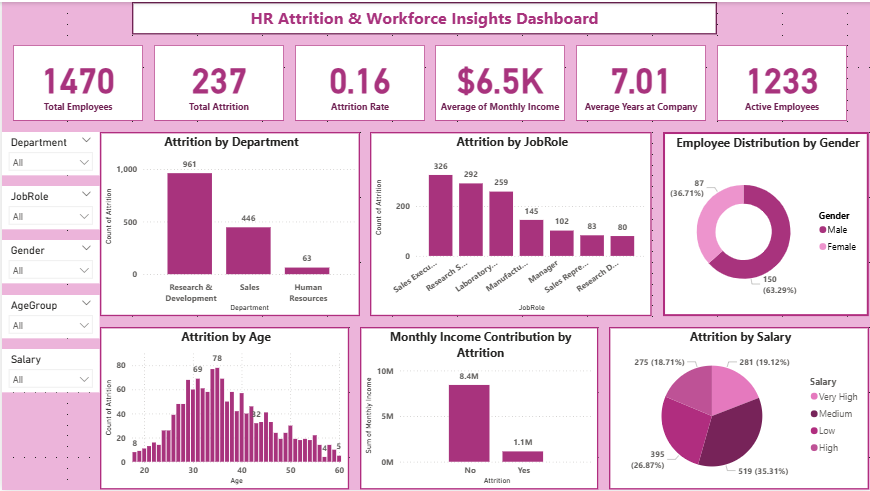

What the dashboard file says about the page in this screenshot:
{"tool":"powerbi","page":{"name":"HR Dashboard","canvas":[1283,720],"ordinal":1},"visuals":[{"type":"card","fields":{"Values":["HR-Employee-Attrition.Total Employees"]},"box":[16,64,192,112],"z":0},{"type":"card","fields":{"Values":["HR-Employee-Attrition.Total Attrition"]},"box":[224,64,192,112],"z":1000},{"type":"card","fields":{"Values":["HR-Employee-Attrition.Attrition Rate"]},"box":[432,64,192,112],"z":2000},{"type":"card","fields":{"Values":["Avg(HR-Employee-Attrition.MonthlyIncome)"]},"box":[640,64,192,112],"z":3000},{"type":"card","fields":{"Values":["HR-Employee-Attrition.Average Years at Company"]},"box":[848,64,192,112],"z":4000},{"type":"clusteredColumnChart","title":"Attrition by Department","fields":{"Category":["HR-Employee-Attrition.Department"],"Y":["CountNonNull(HR-Employee-Attrition.Attrition)"]},"box":[144,192,384,272],"z":5000},{"type":"clusteredColumnChart","title":" Attrition by JobRole","fields":{"Y":["CountNonNull(HR-Employee-Attrition.Attrition)"],"Category":["HR-Employee-Attrition.JobRole"]},"box":[544,192,416,272],"z":6000},{"type":"donutChart","title":"Employee Distribution by Gender","fields":{"Y":["CountNonNull(HR-Employee-Attrition.Attrition)"],"Category":["HR-Employee-Attrition.Gender"]},"box":[976,192,304,272],"z":7000},{"type":"clusteredColumnChart","title":"Attrition by Age","fields":{"Category":["HR-Employee-Attrition.Age"],"Y":["CountNonNull(HR-Employee-Attrition.Attrition)"]},"box":[144,480,368,240],"z":8000},{"type":"card","fields":{"Values":["HR-Employee-Attrition.Active Employees"]},"box":[1056,64,192,112],"z":9000},{"type":"pieChart","title":"Attrition by Salary","fields":{"Category":["HR-Employee-Attrition.Salary"],"Y":["CountNonNull(HR-Employee-Attrition.Attrition)"]},"box":[896,480,384,240],"z":10000},{"type":"textbox","box":[192,0,864,48],"z":11000},{"type":"slicer","fields":{"Values":["HR-Employee-Attrition.Department"]},"box":[0,192,144,64],"z":12000},{"type":"slicer","fields":{"Values":["HR-Employee-Attrition.JobRole"]},"box":[0,272,144,64],"z":13000},{"type":"slicer","fields":{"Values":["HR-Employee-Attrition.Gender"]},"box":[0,352,144,64],"z":14000},{"type":"slicer","fields":{"Values":["HR-Employee-Attrition.AgeGroup"]},"box":[0,432,144,64],"z":15000},{"type":"slicer","fields":{"Values":["HR-Employee-Attrition.Salary"]},"box":[0,512,144,64],"z":16000},{"type":"clusteredColumnChart","title":"Monthly Income Contribution by Attrition","fields":{"Category":["HR-Employee-Attrition.Attrition"],"Y":["Sum(HR-Employee-Attrition.MonthlyIncome)"]},"box":[528,480,352,240],"z":17000}]}

Visuals, with their boxes in screenshot pixels (x1, y1, x2, y2), scaled from the page's 1283x720 canvas onto the 870x491 screenshot:
card - HR-Employee-Attrition.Total Employees: <region>11, 44, 141, 120</region>
card - HR-Employee-Attrition.Total Attrition: <region>152, 44, 282, 120</region>
card - HR-Employee-Attrition.Attrition Rate: <region>293, 44, 423, 120</region>
card - Avg(HR-Employee-Attrition.MonthlyIncome): <region>434, 44, 564, 120</region>
card - HR-Employee-Attrition.Average Years at Company: <region>575, 44, 705, 120</region>
"Attrition by Department" clusteredColumnChart: <region>98, 131, 358, 316</region>
" Attrition by JobRole" clusteredColumnChart: <region>369, 131, 651, 316</region>
"Employee Distribution by Gender" donutChart: <region>662, 131, 868, 316</region>
"Attrition by Age" clusteredColumnChart: <region>98, 327, 347, 490</region>
card - HR-Employee-Attrition.Active Employees: <region>716, 44, 846, 120</region>
"Attrition by Salary" pieChart: <region>608, 327, 868, 490</region>
textbox: <region>130, 0, 716, 33</region>
slicer - HR-Employee-Attrition.Department: <region>0, 131, 98, 175</region>
slicer - HR-Employee-Attrition.JobRole: <region>0, 185, 98, 229</region>
slicer - HR-Employee-Attrition.Gender: <region>0, 240, 98, 284</region>
slicer - HR-Employee-Attrition.AgeGroup: <region>0, 295, 98, 338</region>
slicer - HR-Employee-Attrition.Salary: <region>0, 349, 98, 393</region>
"Monthly Income Contribution by Attrition" clusteredColumnChart: <region>358, 327, 597, 490</region>
